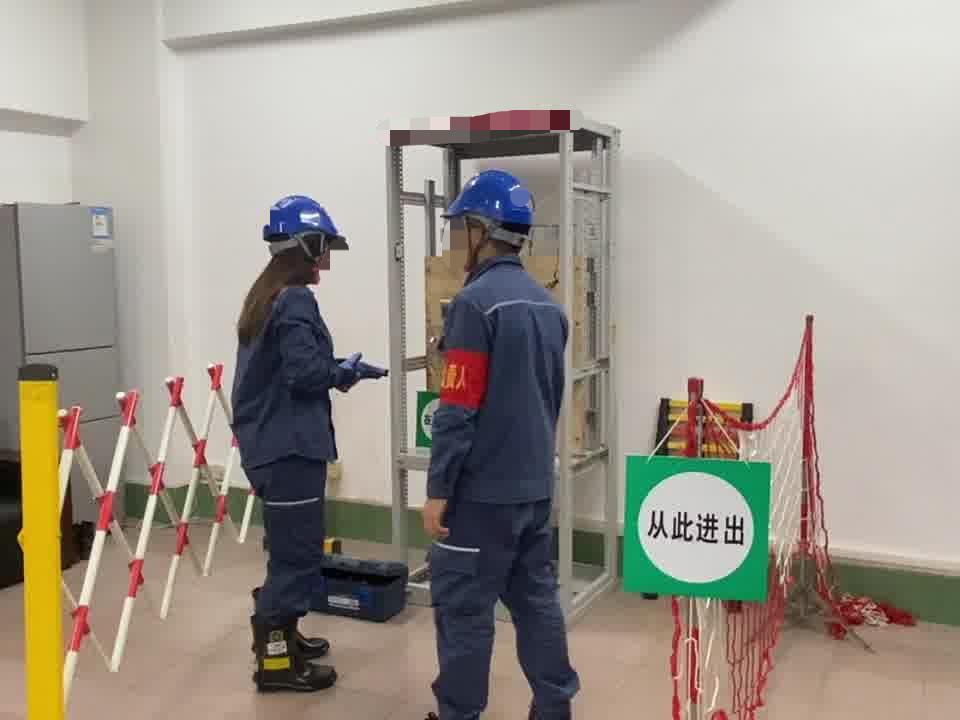halt: (446, 170, 539, 265)
inear: (461, 218, 497, 262)
